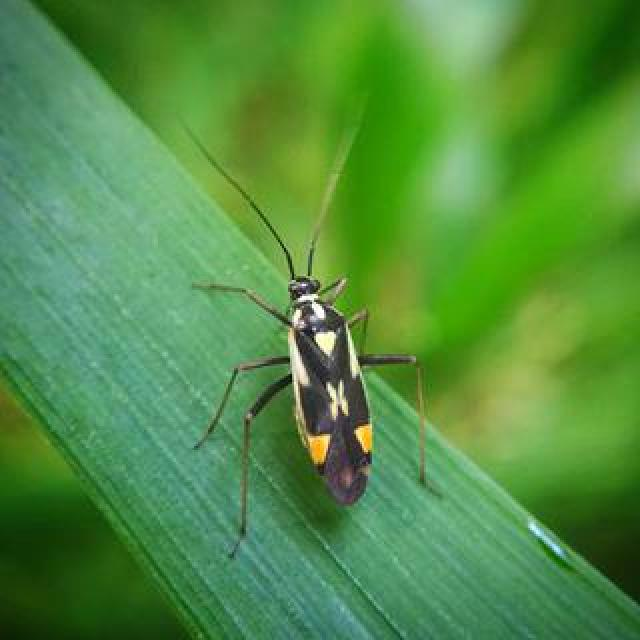Miridae-Adult-: (147, 82, 477, 557)
